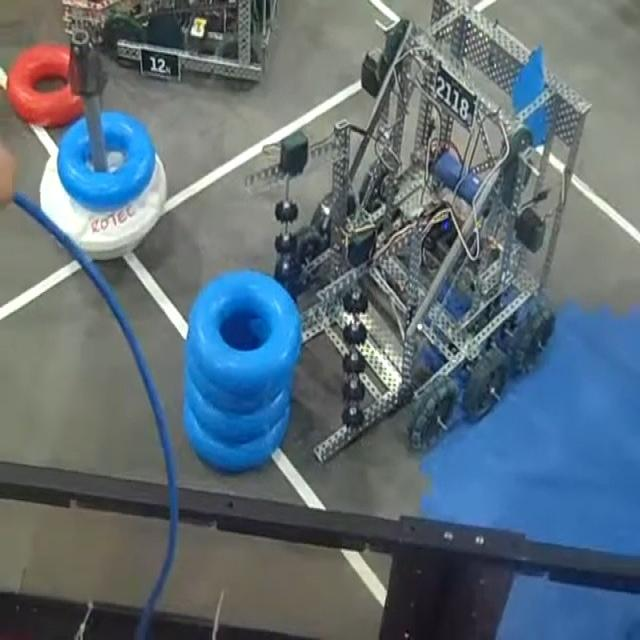Blue-Ring: (186, 270, 301, 396), (58, 112, 156, 211), (184, 404, 290, 471), (185, 374, 289, 442), (186, 358, 278, 414)
Red-Ring: (9, 43, 84, 128)
